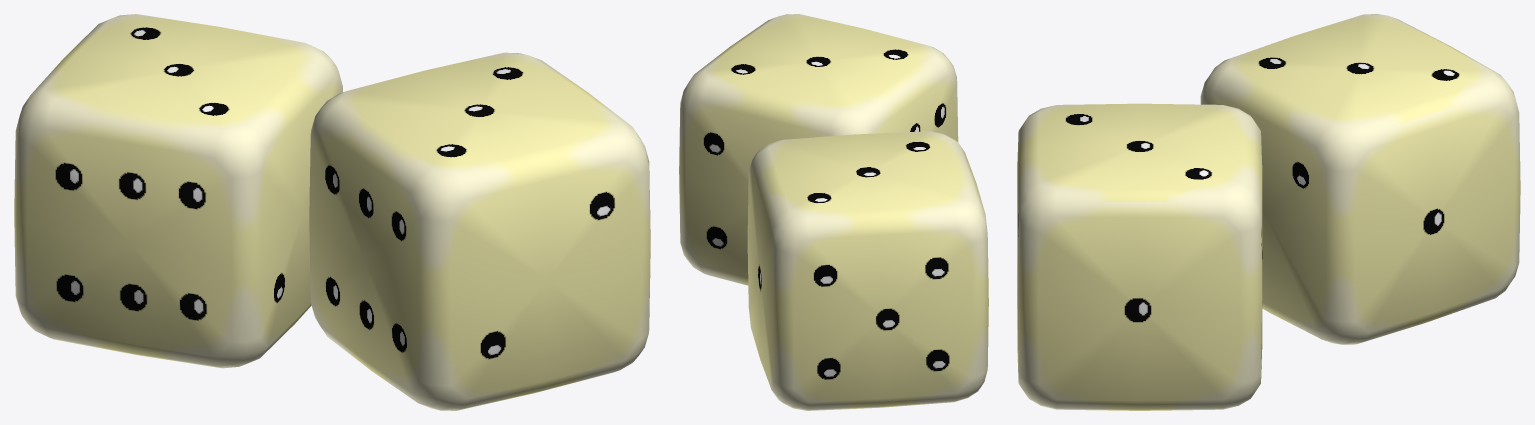
Rendered from dice.dae.
3 views of the same model, side by side, from view 1: azimuth 30°, elevation 25°; view 2: azimuth 150°, elevation 25°; view 3: azimuth 270°, elevation 25° (orthographic). The views are drawn at different scales.
Parts seen in each view (by area): view 1: dice1, dice2; view 2: dice2, dice1; view 3: dice2, dice1.
Boxes of the visible parts, x1,y1,x2,y2 form: dice1: (309, 52, 650, 410); dice2: (14, 14, 342, 368); dice2: (747, 131, 988, 410); dice1: (679, 14, 958, 285); dice2: (1200, 14, 1520, 344); dice1: (1017, 103, 1262, 410).
Bounding box in the file's own units: 0.2922 × 0.3101 × 0.1528.
1 material, 1 textured.
